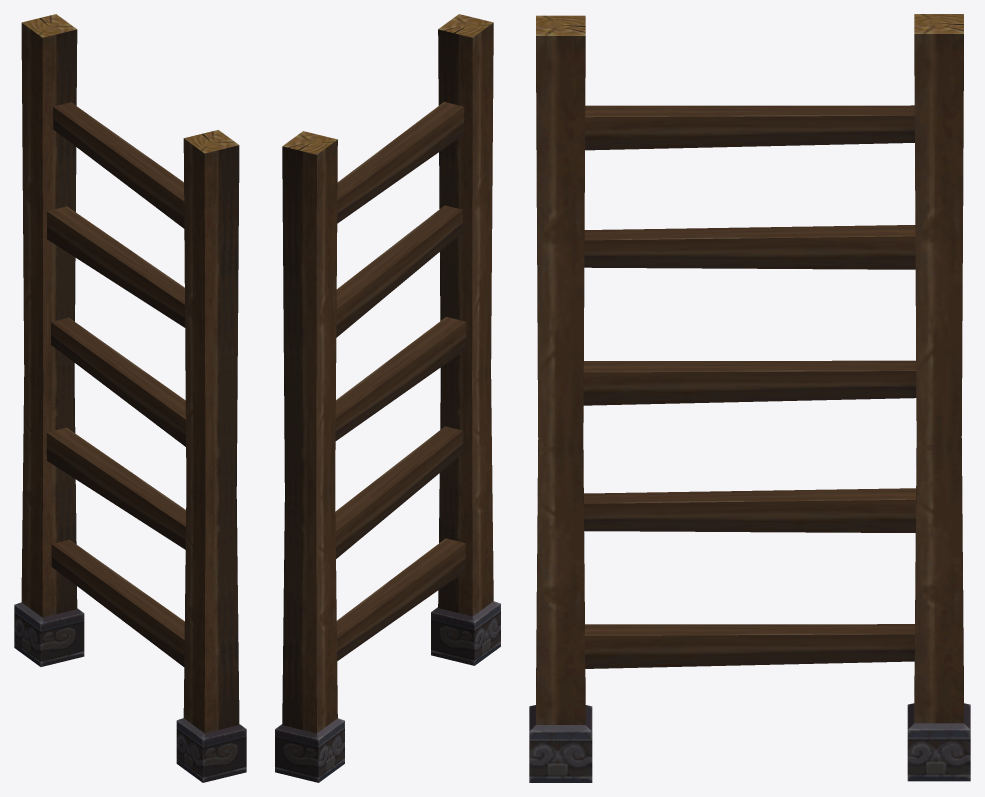
File: Item_3001_dimianwujian_muti.FBX
3 views of the same model, side by side, from view 1: azimuth 30°, elevation 25°; view 2: azimuth 150°, elevation 25°; view 3: azimuth 270°, elevation 25° (orthographic). The views are drawn at different scales.
Visible parts, largest first — view 1: Item_3001_dimianwujian_muti; view 2: Item_3001_dimianwujian_muti; view 3: Item_3001_dimianwujian_muti.
Part boxes in pixels (x1,y1,x2,y2): Item_3001_dimianwujian_muti: (14,14,246,782); Item_3001_dimianwujian_muti: (275,14,500,782); Item_3001_dimianwujian_muti: (529,14,970,782).
Size of the model in its own units: 25.1 by 322 by 173.
